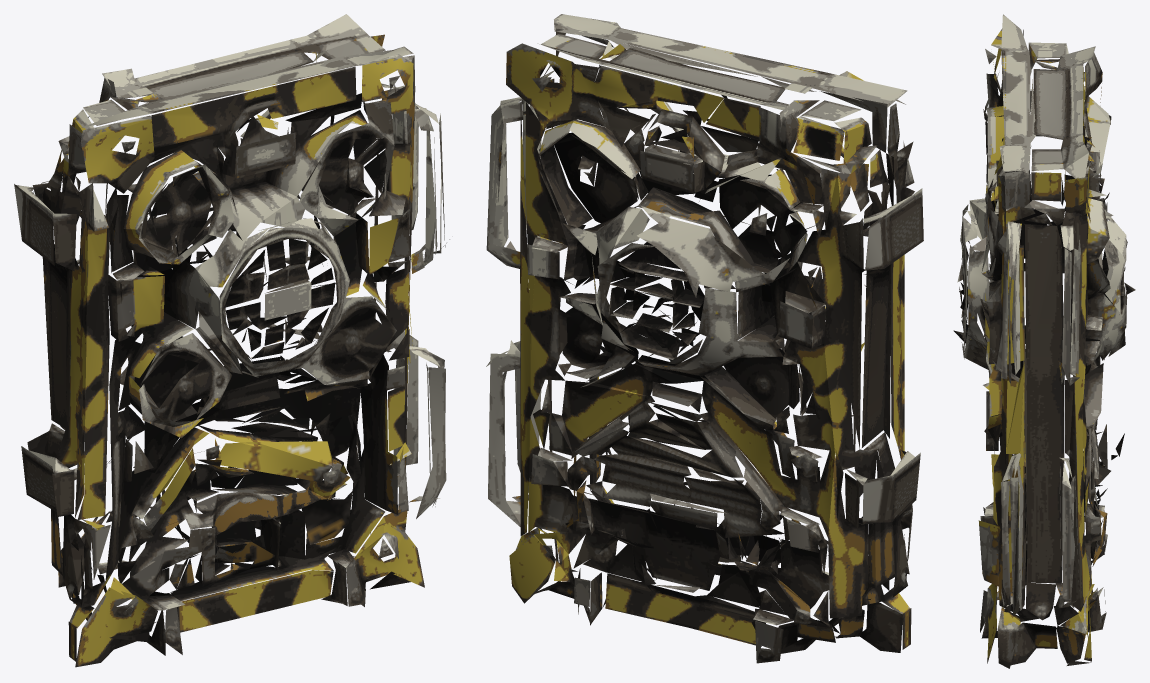
The model's file is mo_repair.glb.
3 views of the same model, side by side, from view 1: azimuth 30°, elevation 25°; view 2: azimuth 150°, elevation 25°; view 3: azimuth 270°, elevation 25° (orthographic). The views are drawn at different scales.
Parts seen in each view (by area): view 1: mo_repair; view 2: mo_repair; view 3: mo_repair.
Part boxes in pixels (<box>): mo_repair: <box>14,14,449,667</box>; mo_repair: <box>486,14,923,663</box>; mo_repair: <box>953,14,1135,668</box>.
Bounding box in the file's own units: 0.1511 × 0.2 × 0.0653.
Materials: 1 (1 with a texture image).
